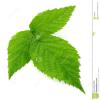Raspberry leaf: (29, 35, 87, 94), (5, 30, 37, 81), (29, 4, 77, 36)
